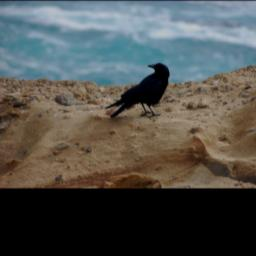Crow: (105, 60, 170, 120)
